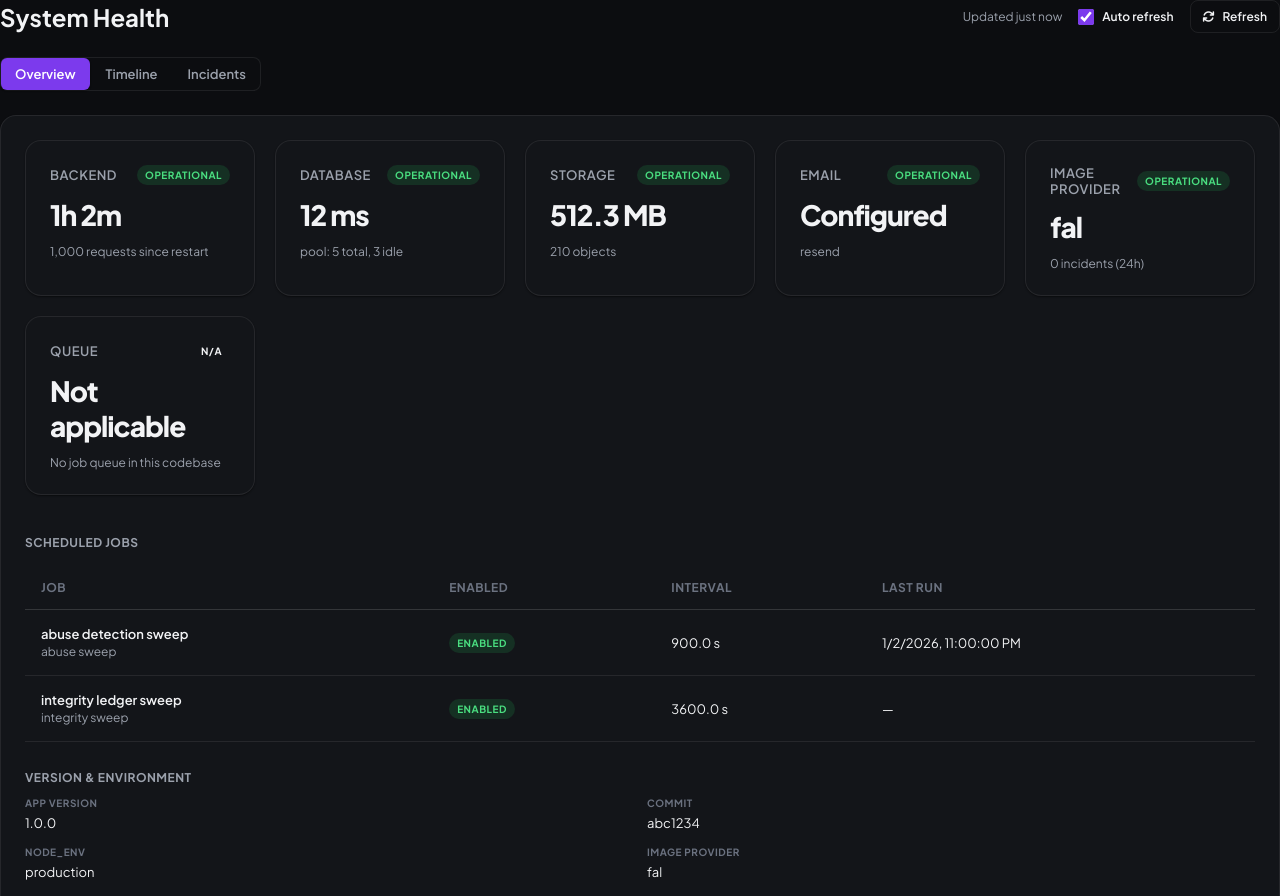
Scenario: SystemHealthPage - Overview › opens the detail drawer with pool stats when the Database card is clicked
What coordinates should you click on to do the following:
click the text "Database"
I would click on:
 (335, 175)
Its box is [300, 167, 371, 183].
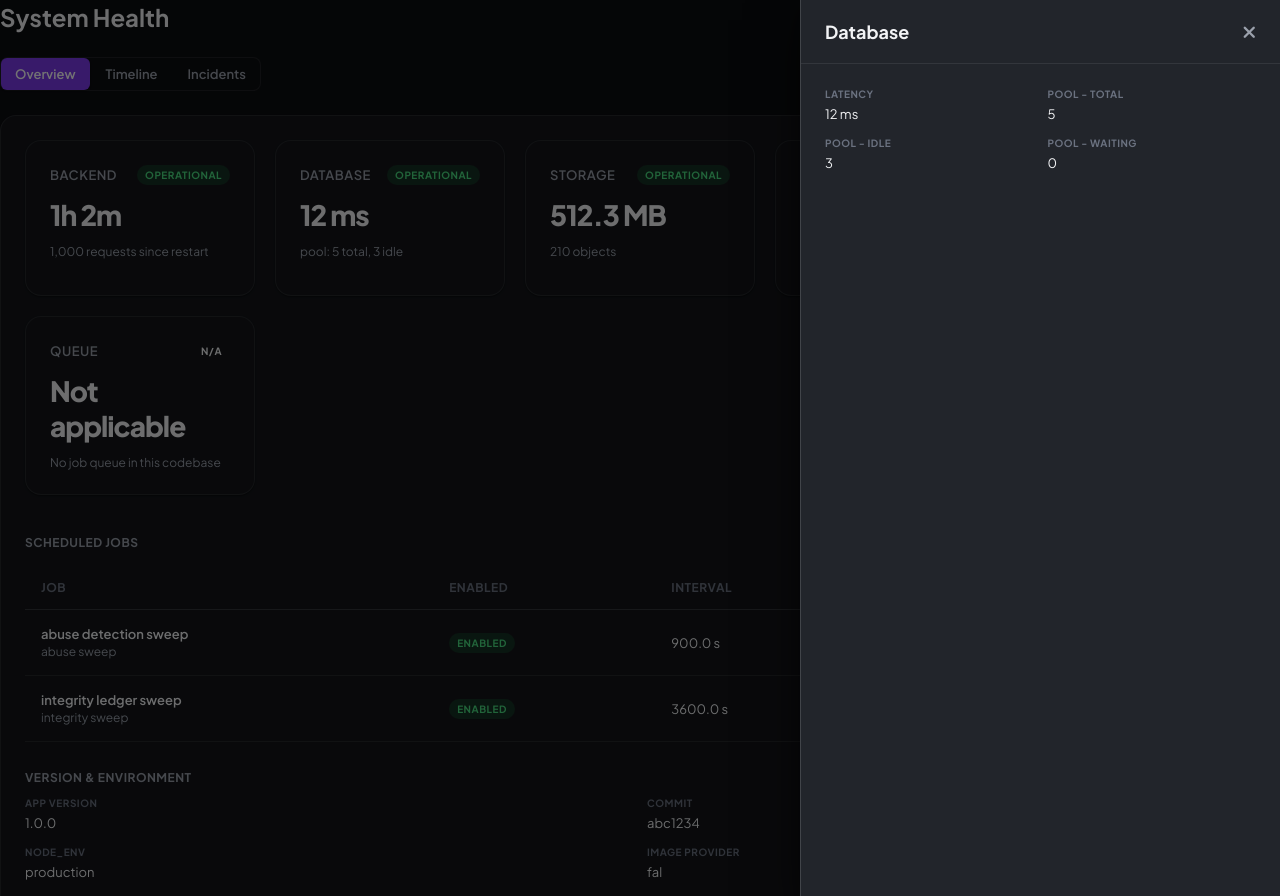
Check: the text "12 ms" is shown, box [825, 106, 858, 122]
